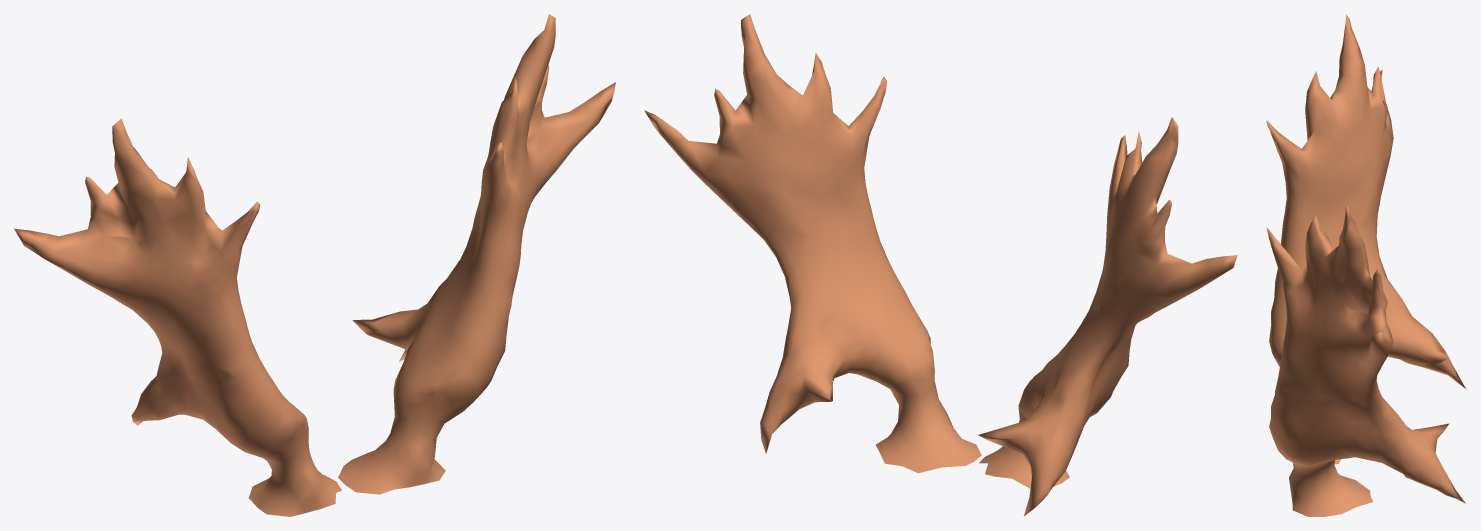
The model's file is elk_horn_color.glb.
The picture shows the model from 3 angles, left to right: view 1: azimuth 30°, elevation 25°; view 2: azimuth 150°, elevation 25°; view 3: azimuth 270°, elevation 25°; orthographic projection. The views are drawn at different scales.
Visible parts, largest first — view 1: Cube.001; view 2: Cube.001; view 3: Cube.001.
Part boxes in pixels (<box>): Cube.001: <box>14,14,615,516</box>; Cube.001: <box>644,14,1237,516</box>; Cube.001: <box>1266,14,1466,516</box>.
Bounding box in the file's own units: 5.98 × 3.9 × 1.91.
